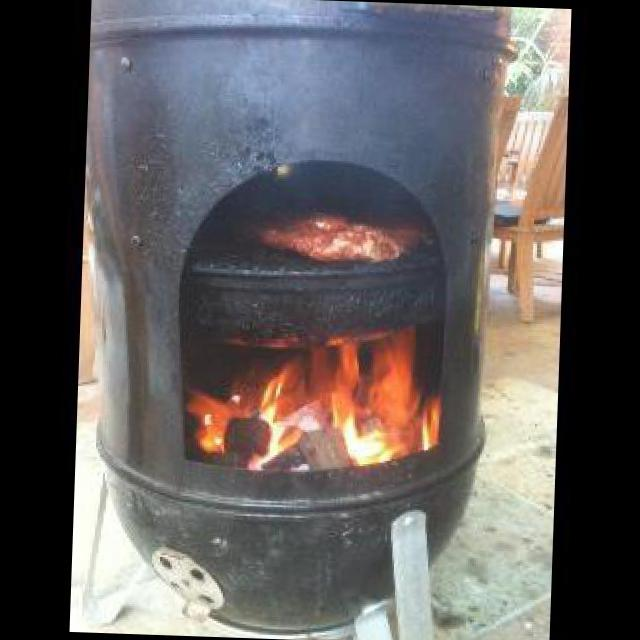Fire: (175, 320, 450, 472)
